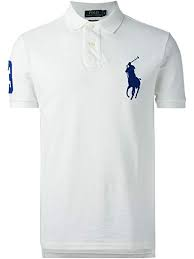S_polo shirt: (5, 2, 187, 259)
